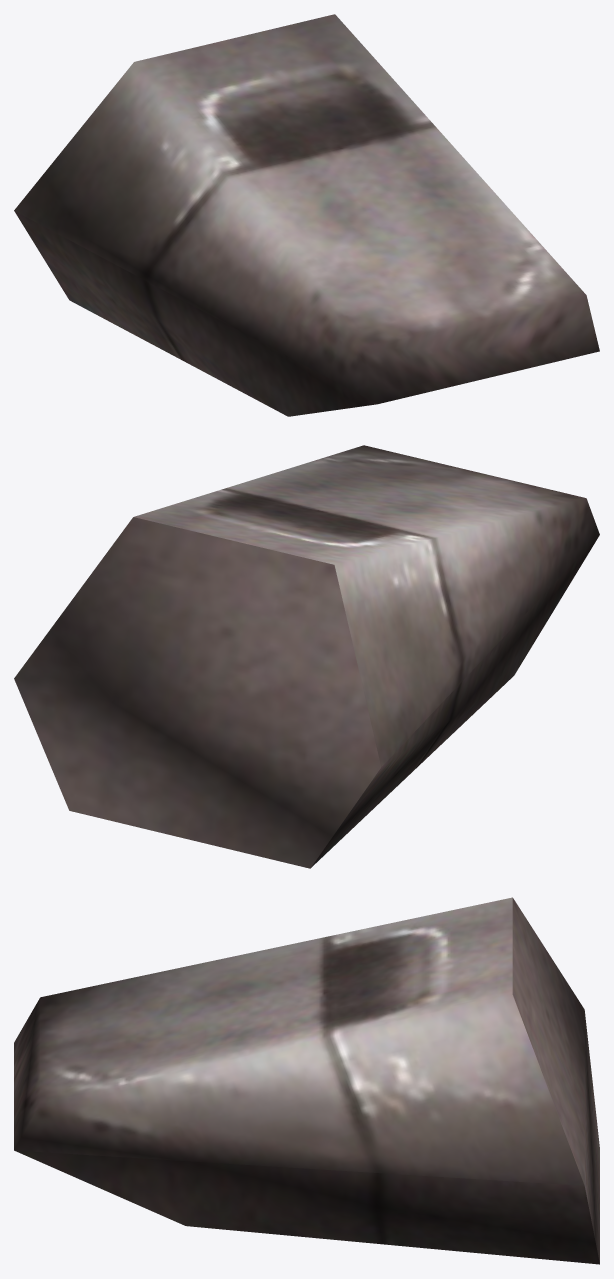
File: z95_part_nose.dae
The picture shows the model from 3 angles, top to bottom: view 1: azimuth 30°, elevation 25°; view 2: azimuth 150°, elevation 25°; view 3: azimuth 270°, elevation 25°; orthographic projection. The views are drawn at different scales.
Visible parts, largest first — view 1: hull_low; view 2: hull_low; view 3: hull_low.
Part boxes in pixels (x1,y1,x2,y2): hull_low: (14, 14, 599, 416); hull_low: (14, 445, 599, 868); hull_low: (14, 897, 599, 1264).
Bounding box in the file's own units: 1.23 × 0.8541 × 1.73.
1 material, 1 textured.
